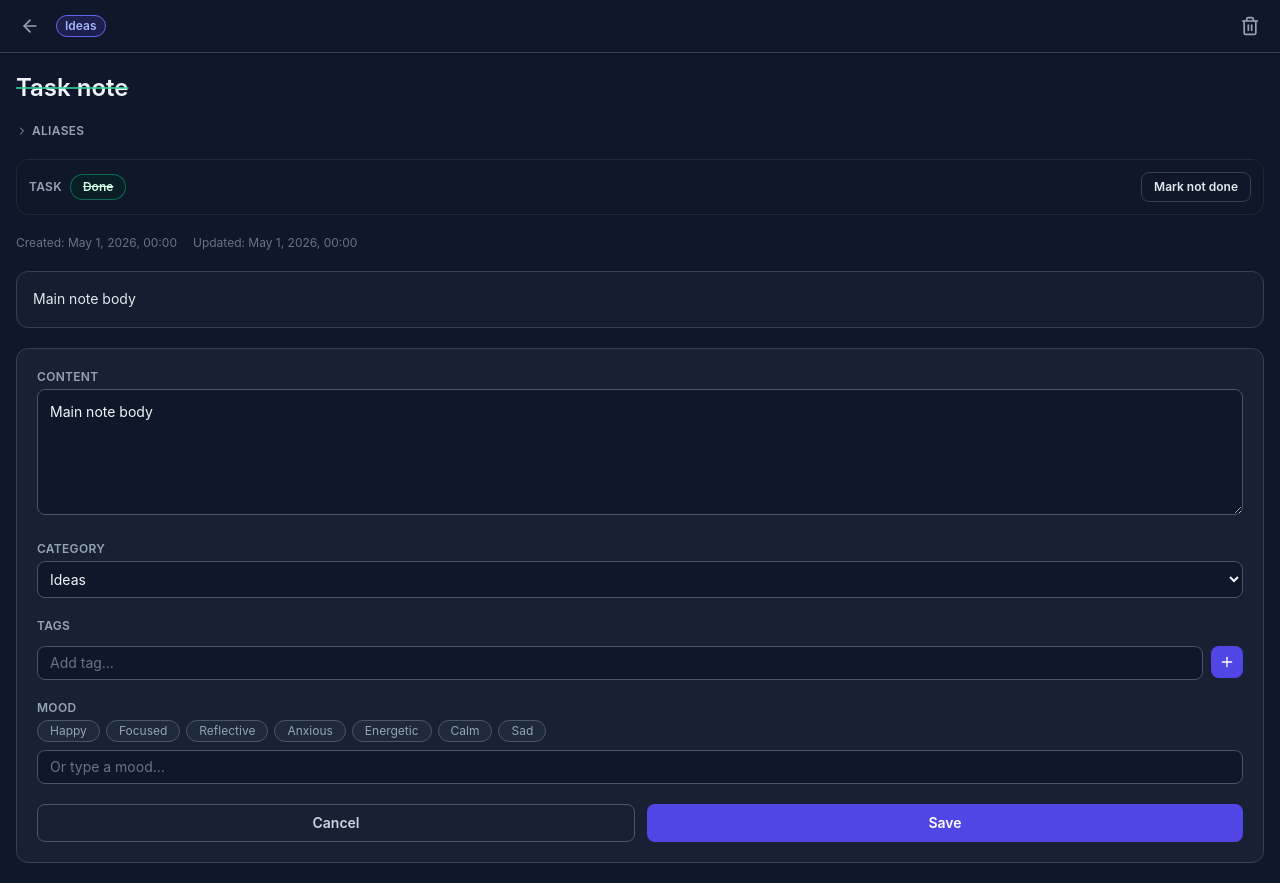
NoteDetailPage task panel › marks a done note not done and clears done_at locally
The width and height of the screenshot is (1280, 883).
Click the button "Mark not done" at (1196, 187), box [1141, 172, 1251, 202]
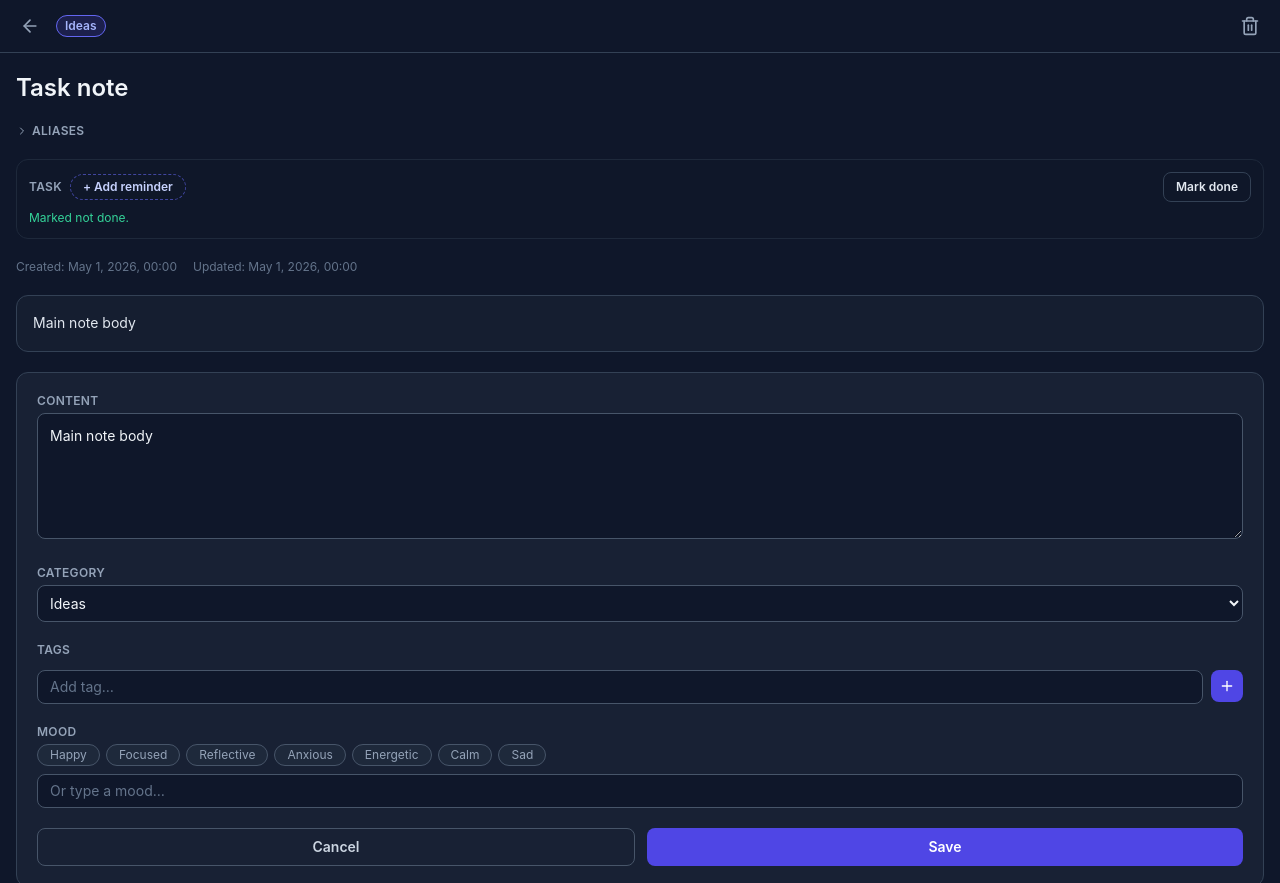
Result: the button "Mark done" is shown at [1163, 172, 1251, 202]
